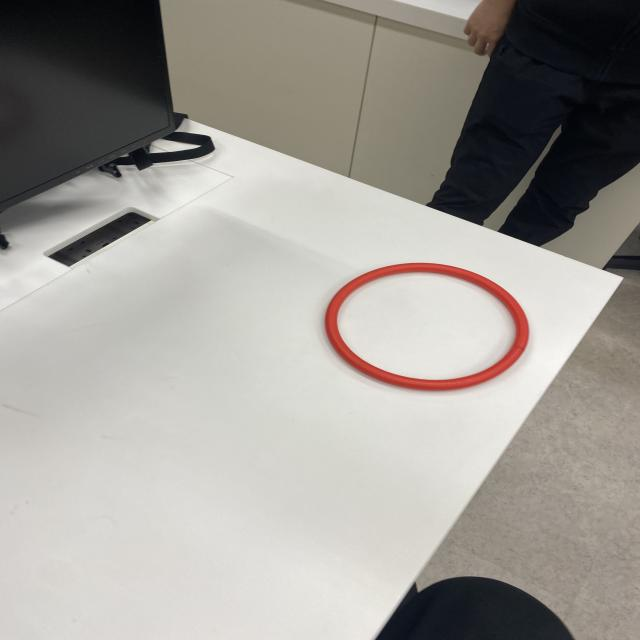daire: (322, 261, 536, 398)
